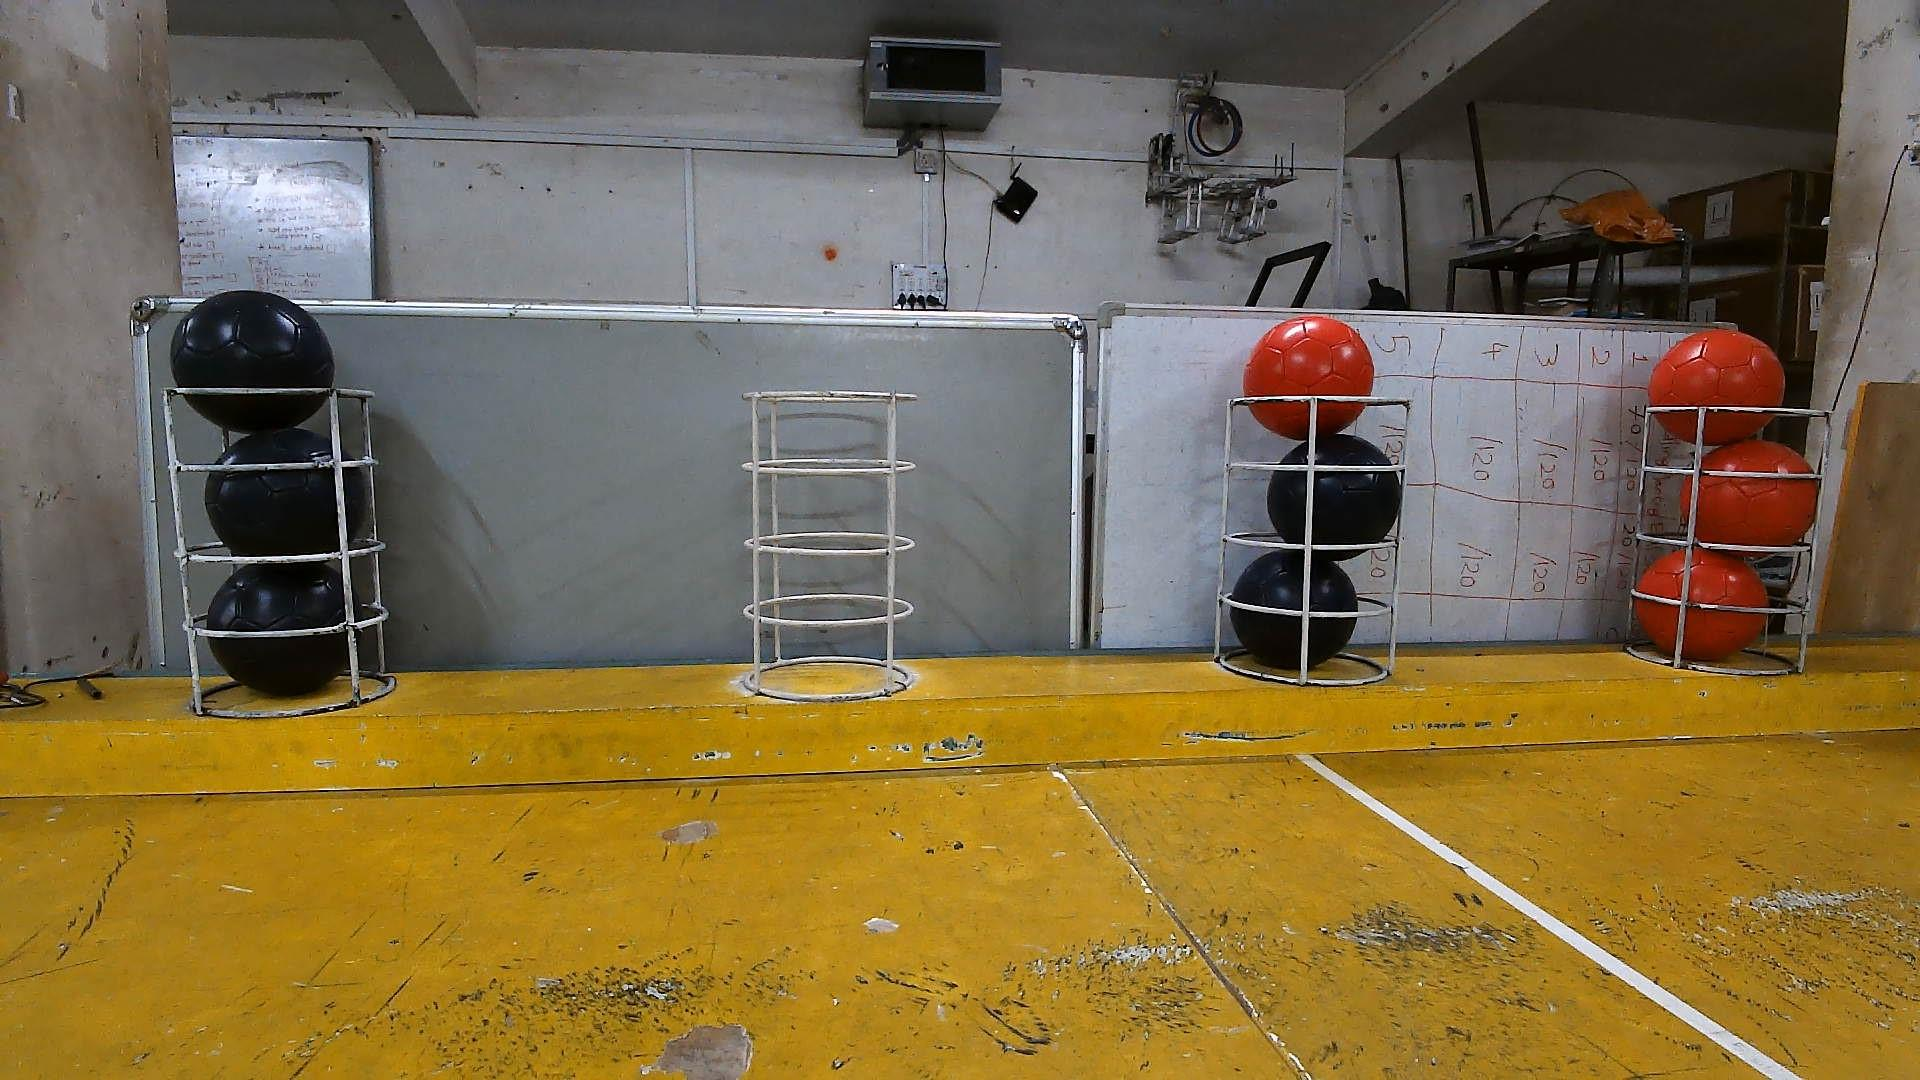dhoka: (173, 293, 334, 431), (206, 563, 348, 698), (203, 427, 342, 559), (1267, 431, 1403, 559), (1230, 547, 1357, 671)
laale: (1241, 315, 1377, 440), (1650, 330, 1785, 446), (1635, 547, 1770, 661), (1680, 439, 1818, 547)
